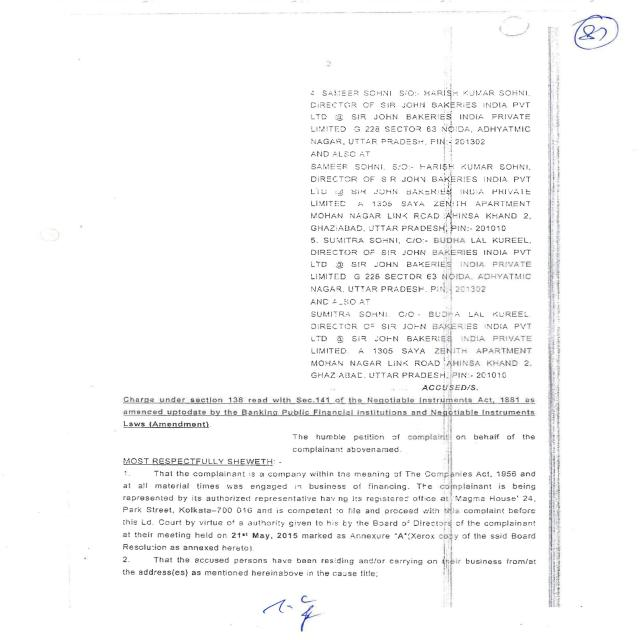page-number: (564, 1, 640, 77)
